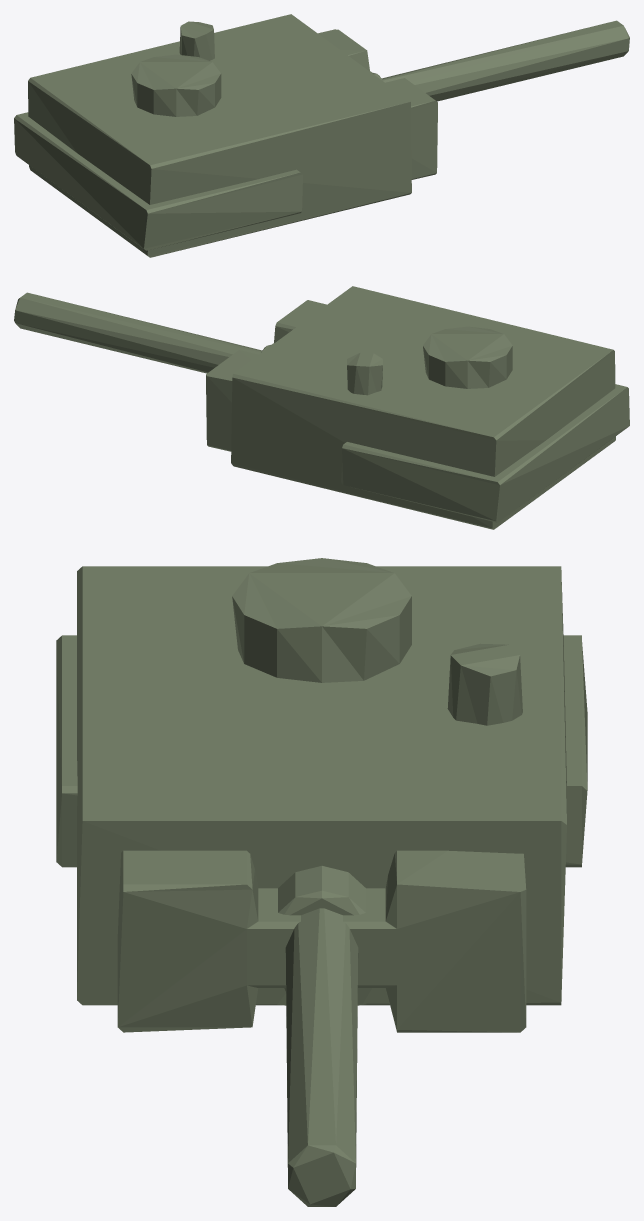
File: tank_turret.lod1.glb
3 renders of one model, top to bottom at view 1: azimuth 30°, elevation 25°; view 2: azimuth 150°, elevation 25°; view 3: azimuth 270°, elevation 25°, orthographic. The views are drawn at different scales.
Bounding box in the file's own units: 3.08 × 0.66 × 1.3.
